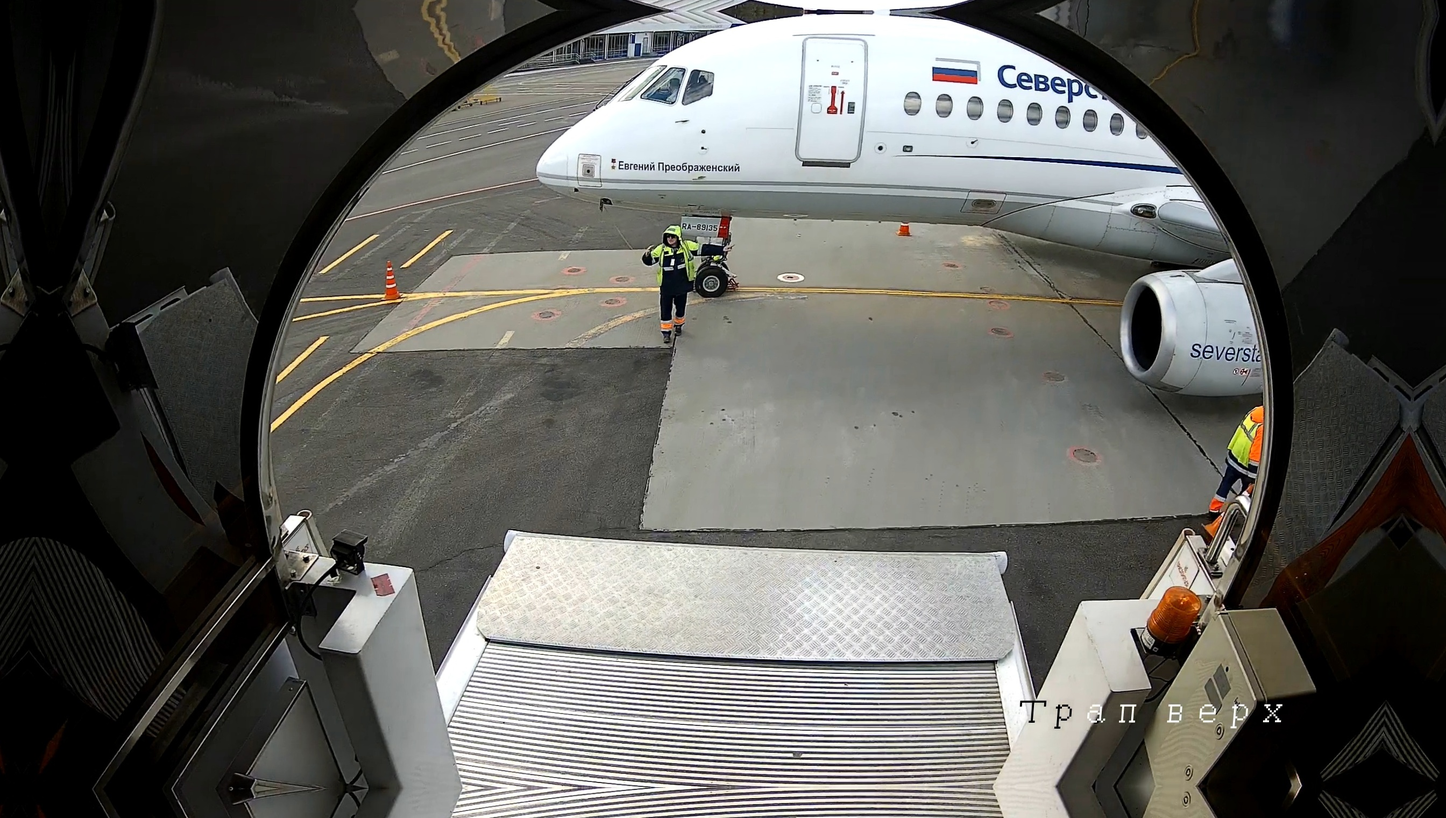boots: (722, 274, 746, 296)
wheels: (692, 263, 729, 298)
